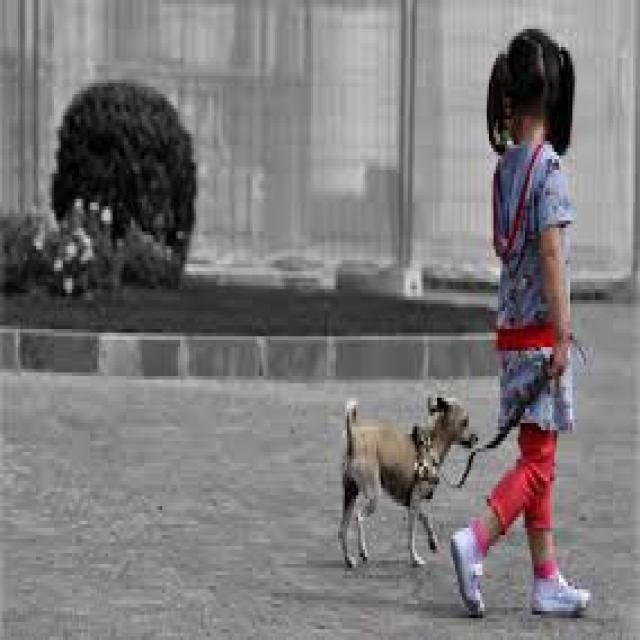good: (335, 387, 481, 570)
